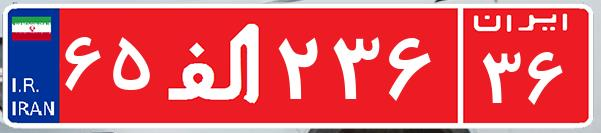2: (273, 28, 330, 110)
3: (330, 28, 385, 110), (475, 38, 525, 113)
5: (110, 28, 158, 105)
6: (385, 28, 445, 110), (57, 26, 110, 107), (525, 38, 570, 115)
الف: (158, 15, 273, 115)
